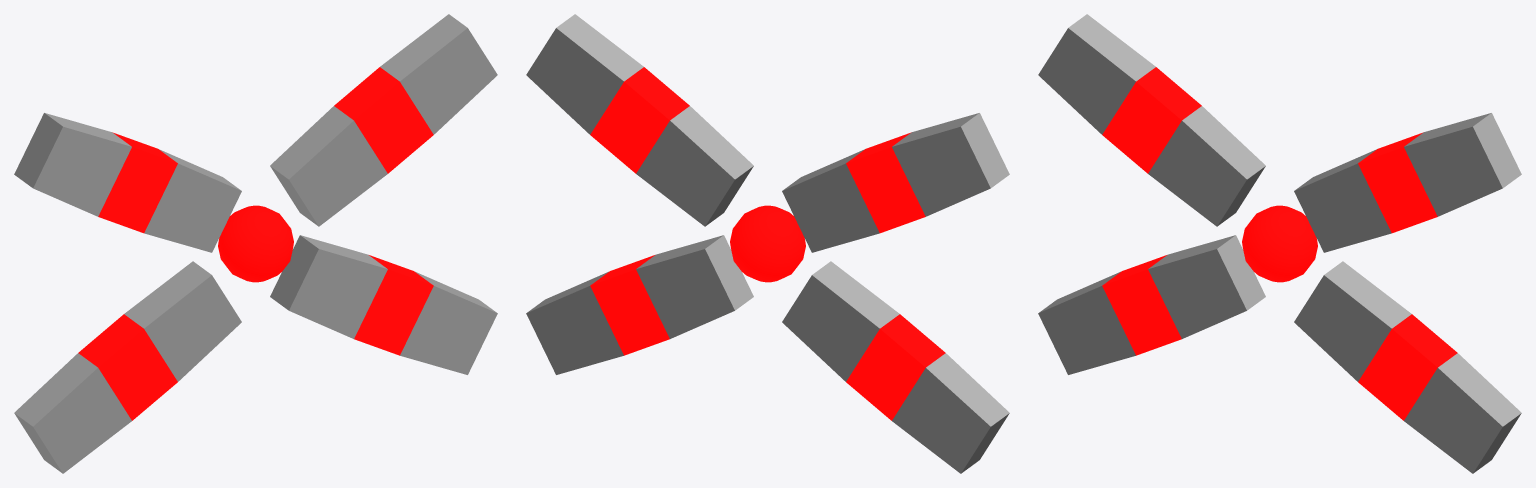
Rendered from enemy2.fbx.
The picture shows the model from 3 angles, left to right: view 1: azimuth 30°, elevation 25°; view 2: azimuth 150°, elevation 25°; view 3: azimuth 330°, elevation 25°; orthographic projection.
Visible parts, largest first — view 1: Sphere.001, Sphere; view 2: Sphere.001, Sphere; view 3: Sphere.001, Sphere.
Boxes of the visible parts, left/top/right/bottom form: Sphere.001: left=14, top=14, right=497, bottom=473; Sphere: left=218, top=205, right=293, bottom=282; Sphere.001: left=526, top=14, right=1009, bottom=473; Sphere: left=730, top=205, right=805, bottom=282; Sphere.001: left=1038, top=14, right=1521, bottom=473; Sphere: left=1242, top=205, right=1317, bottom=282.
Size of the model in its own units: 559 by 399 by 80.
